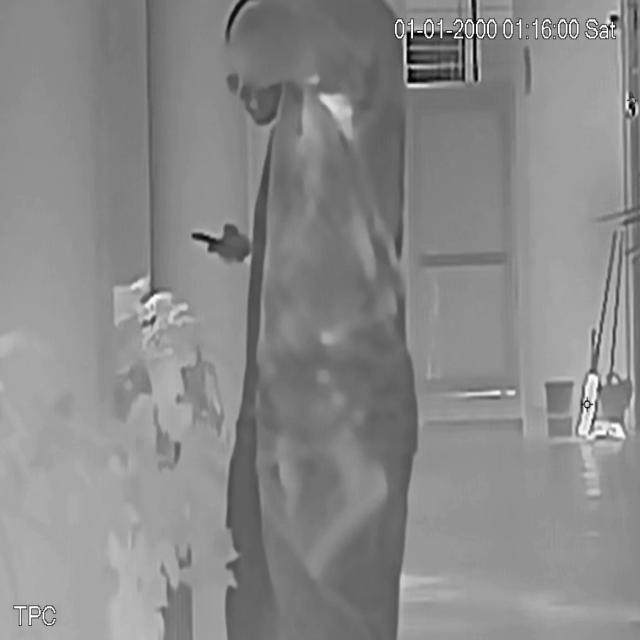Weapon: (296, 429, 398, 595)
